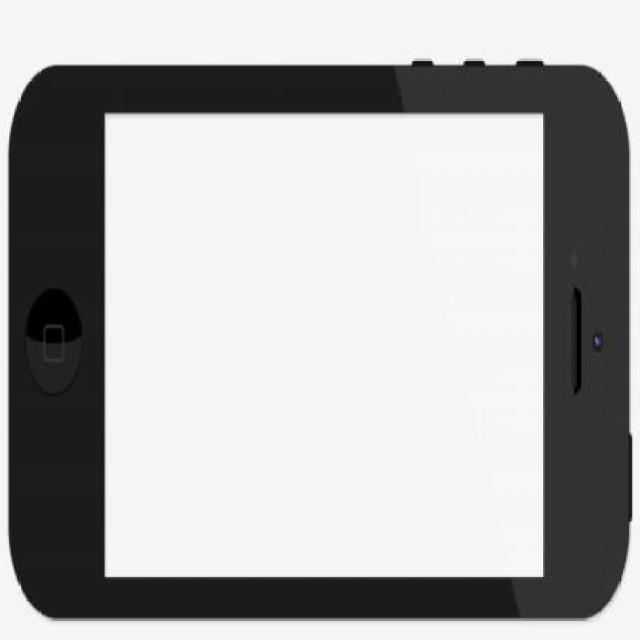phone: (9, 65, 633, 623)
